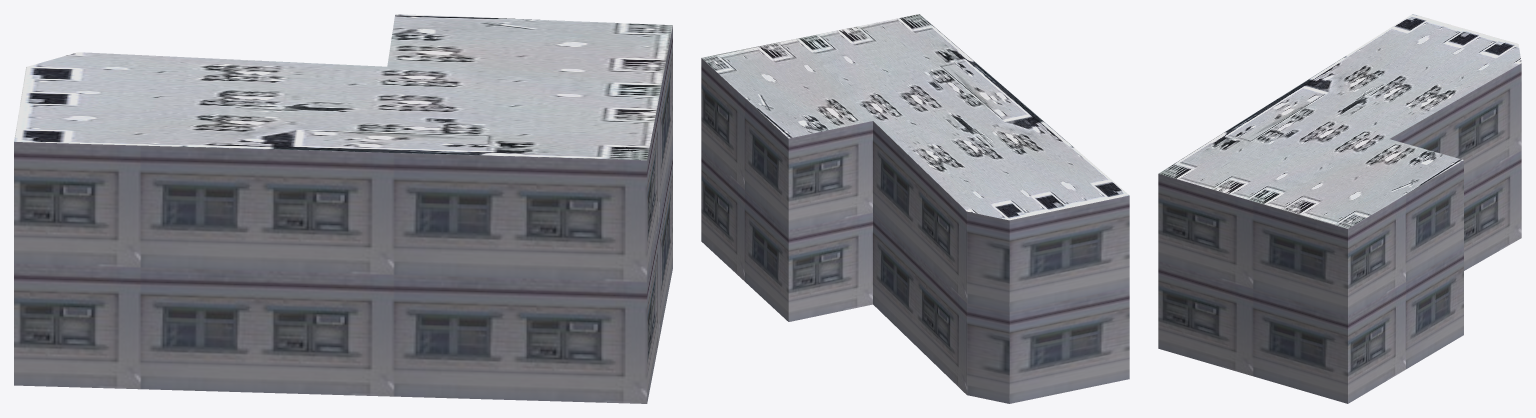
The model's file is ResTex__3902.fbx.
The picture shows the model from 3 angles, left to right: view 1: azimuth 30°, elevation 25°; view 2: azimuth 150°, elevation 25°; view 3: azimuth 270°, elevation 25°; orthographic projection. The views are drawn at different scales.
Visible parts, largest first — view 1: CityEngineMaterial_1_m, CityEngineMaterial_8_m; view 2: CityEngineMaterial_1_m, CityEngineMaterial_8_m; view 3: CityEngineMaterial_1_m, CityEngineMaterial_8_m.
Part boxes in pixels (x1,y1,x2,y2): CityEngineMaterial_1_m: [14, 26, 672, 403]; CityEngineMaterial_8_m: [14, 14, 672, 160]; CityEngineMaterial_1_m: [701, 58, 1129, 403]; CityEngineMaterial_8_m: [701, 14, 1129, 220]; CityEngineMaterial_1_m: [1158, 63, 1521, 403]; CityEngineMaterial_8_m: [1158, 14, 1521, 228].
Bounding box in the file's own units: 15.82 × 6 × 11.29.
2 materials, 2 textured.
